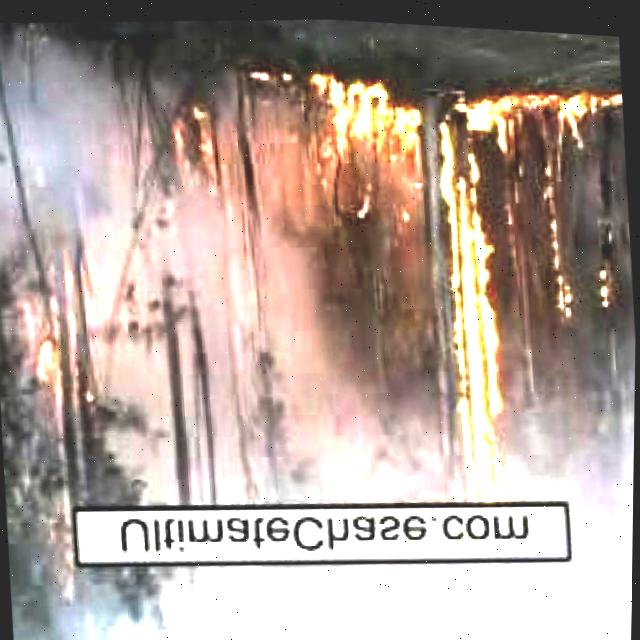Fire: (425, 82, 535, 499), (296, 49, 431, 206), (11, 279, 90, 419), (529, 72, 627, 177), (159, 84, 238, 199), (534, 173, 574, 316)
Smoke: (88, 172, 449, 524), (68, 530, 634, 640), (0, 12, 144, 253)
